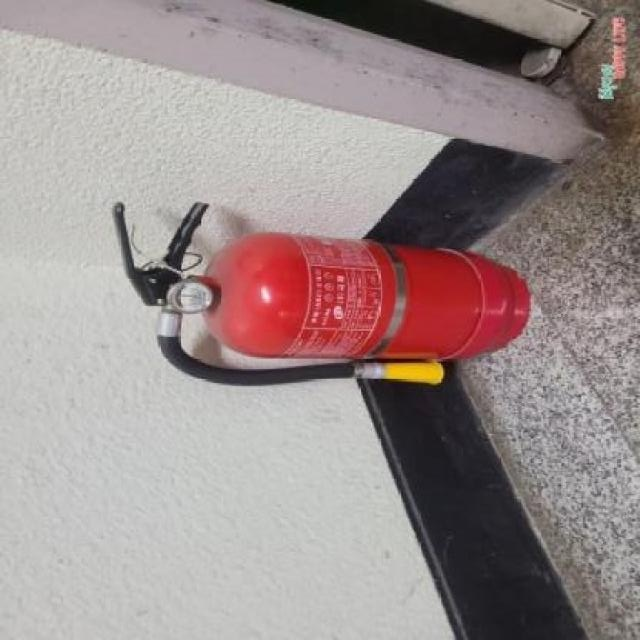fire extinguisher: (110, 201, 528, 387)
